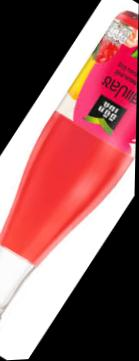glass: (0, 1, 139, 354)
